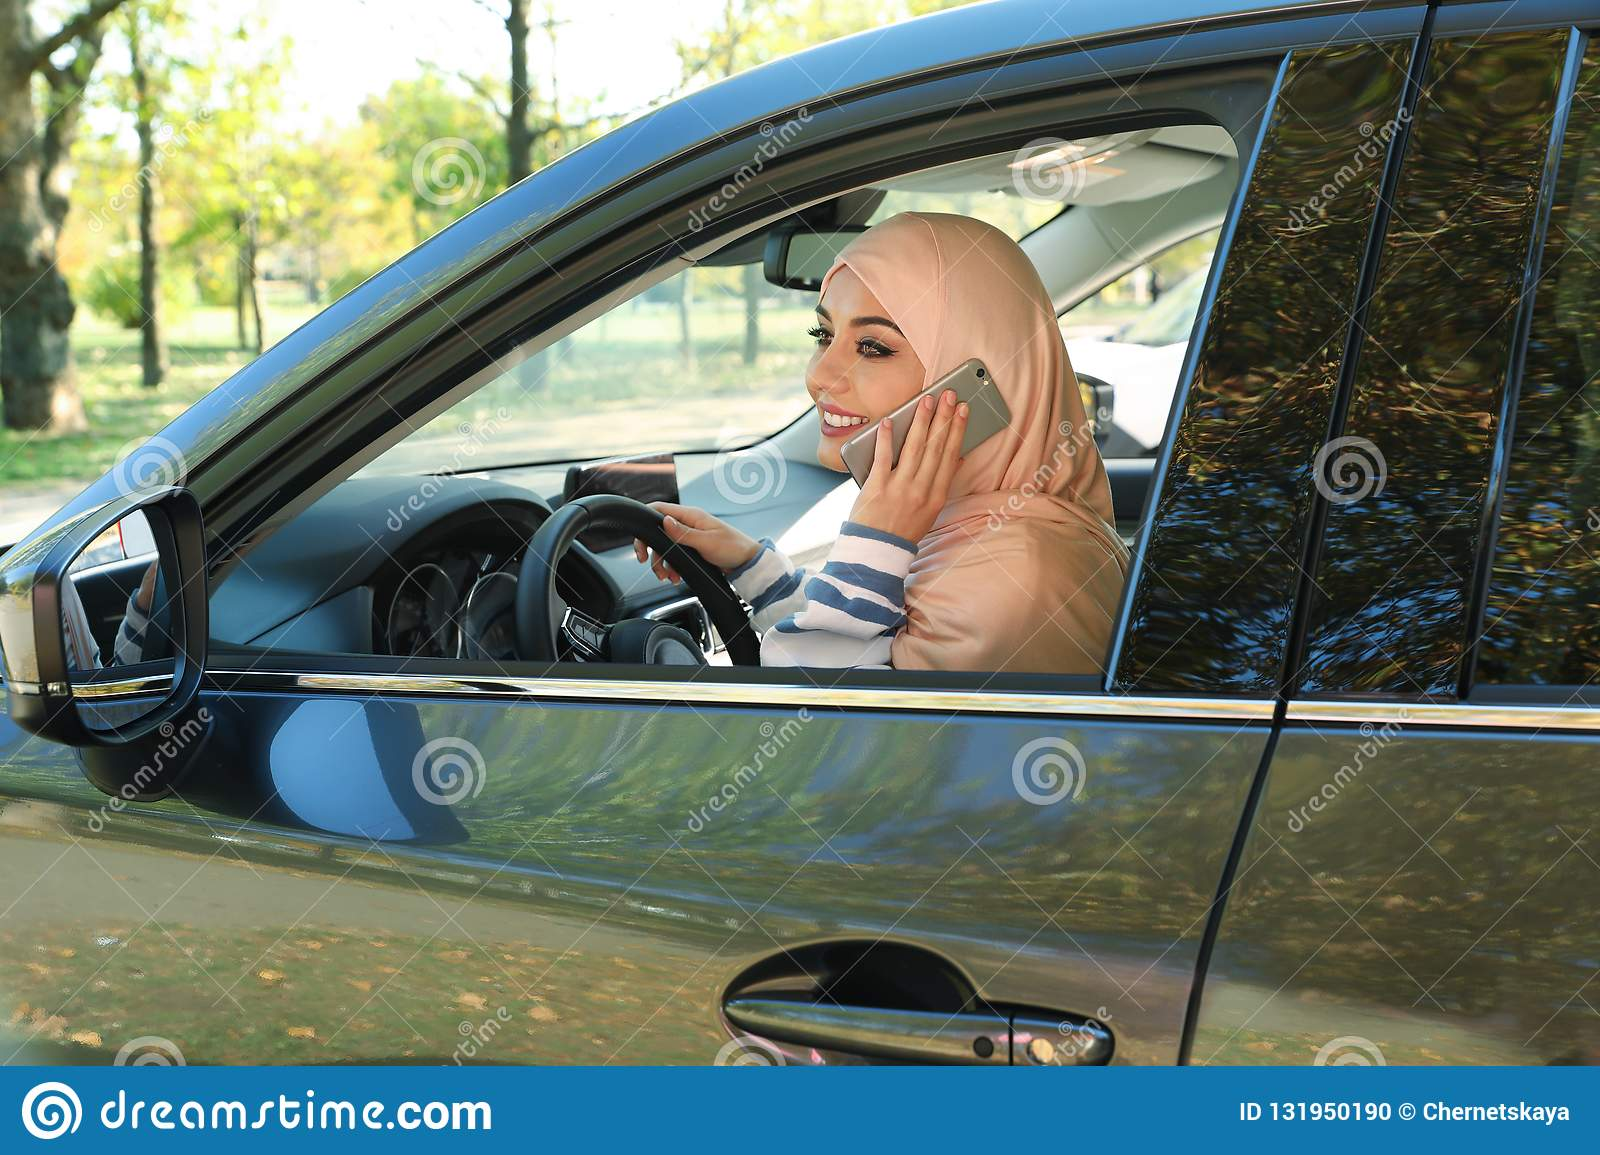phone: (842, 364, 1010, 504)
talk: (806, 306, 1010, 546)
